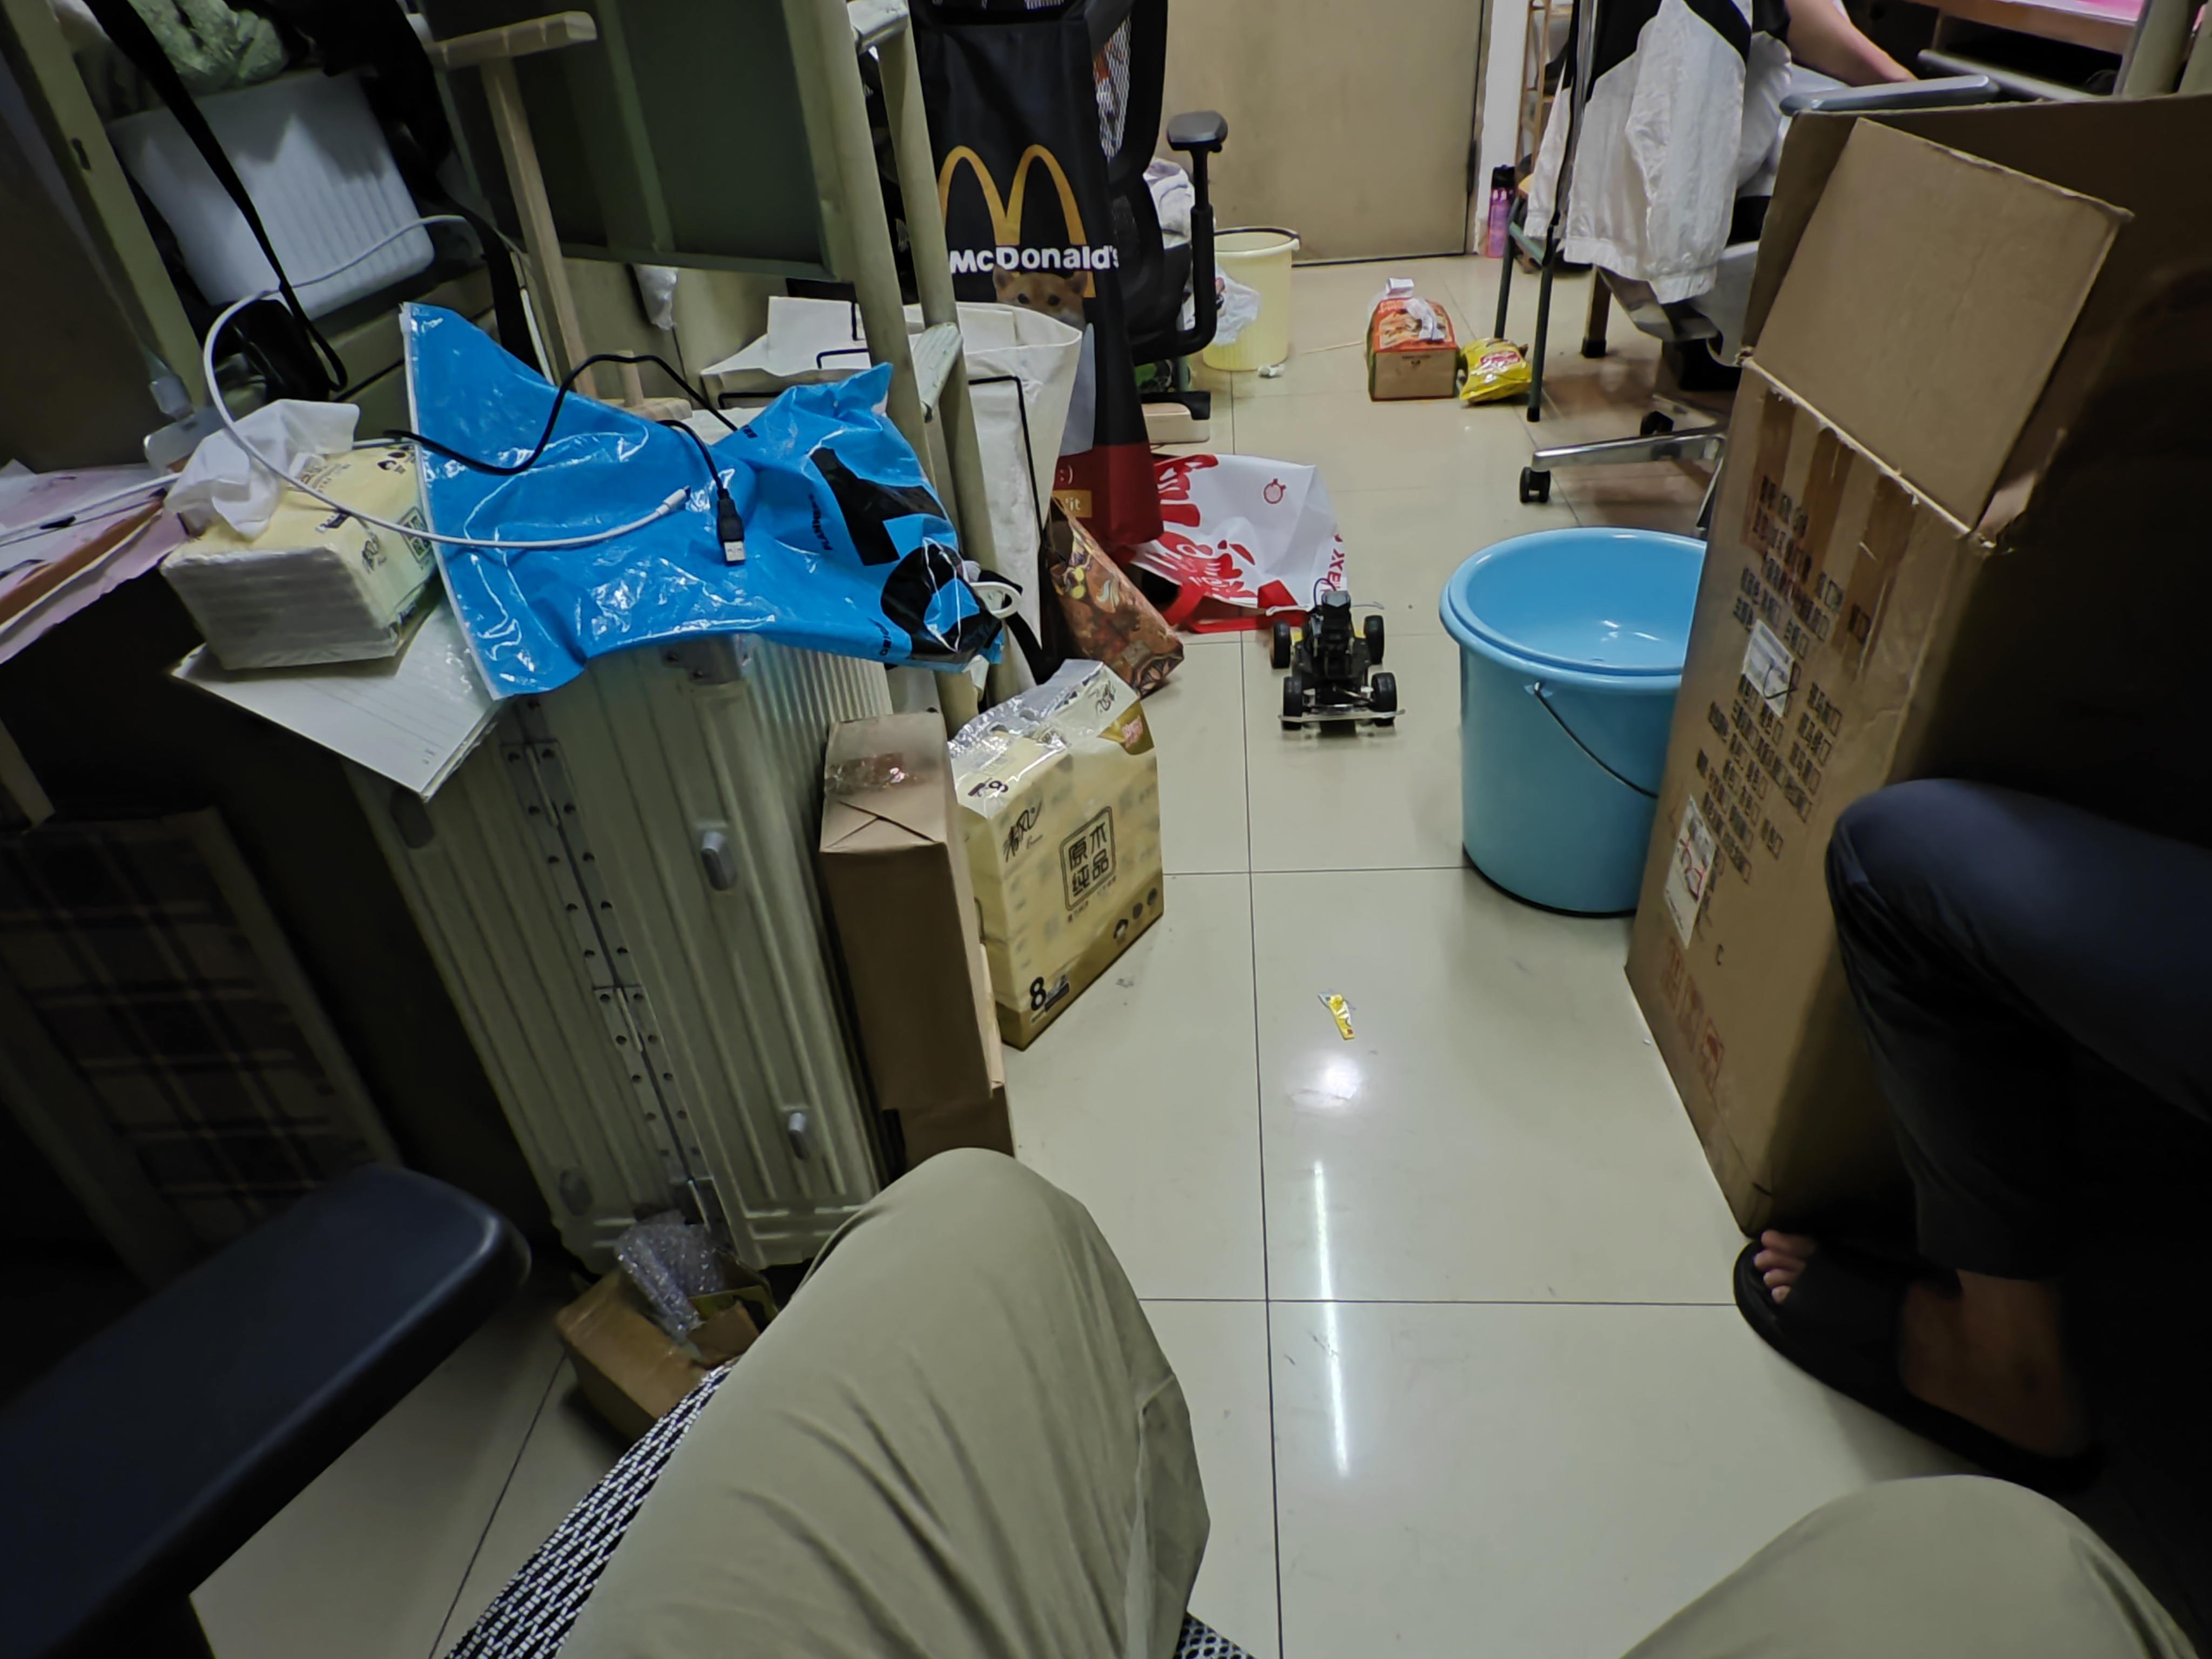car: (1268, 579, 1409, 751)
